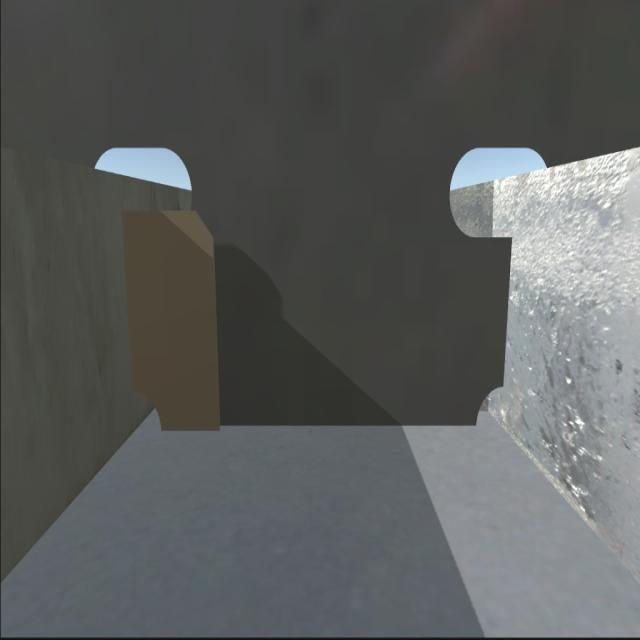fillet_hole: (130, 389, 162, 433), (475, 384, 508, 426)
fillet_yong_jeop_jang: (170, 421, 475, 431)
longi_yong_jeop_jang: (123, 212, 138, 390), (499, 239, 514, 384)
plate_CP03: (127, 206, 218, 434)
